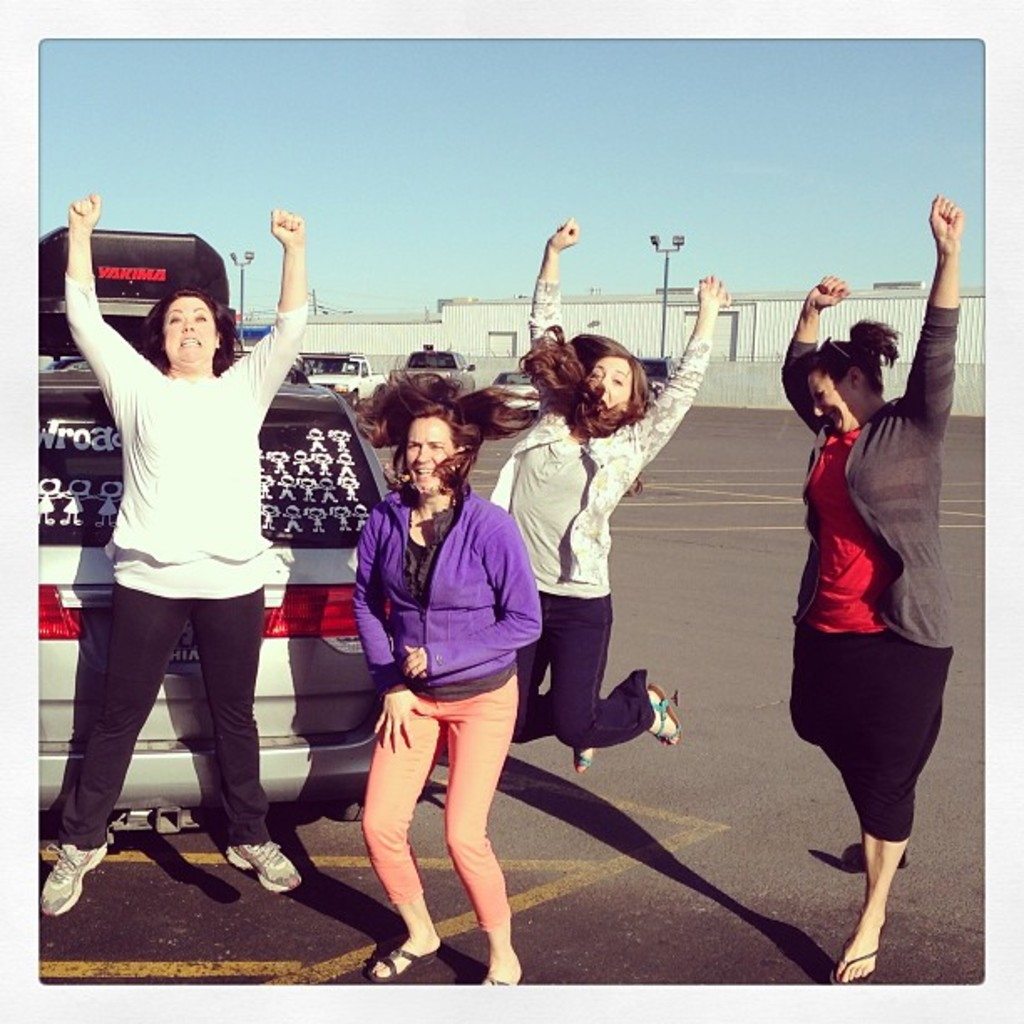Footwear: (33, 838, 109, 919), (224, 838, 305, 892), (827, 935, 888, 996), (370, 932, 438, 982), (648, 689, 681, 746), (480, 969, 525, 999), (574, 731, 601, 775)
